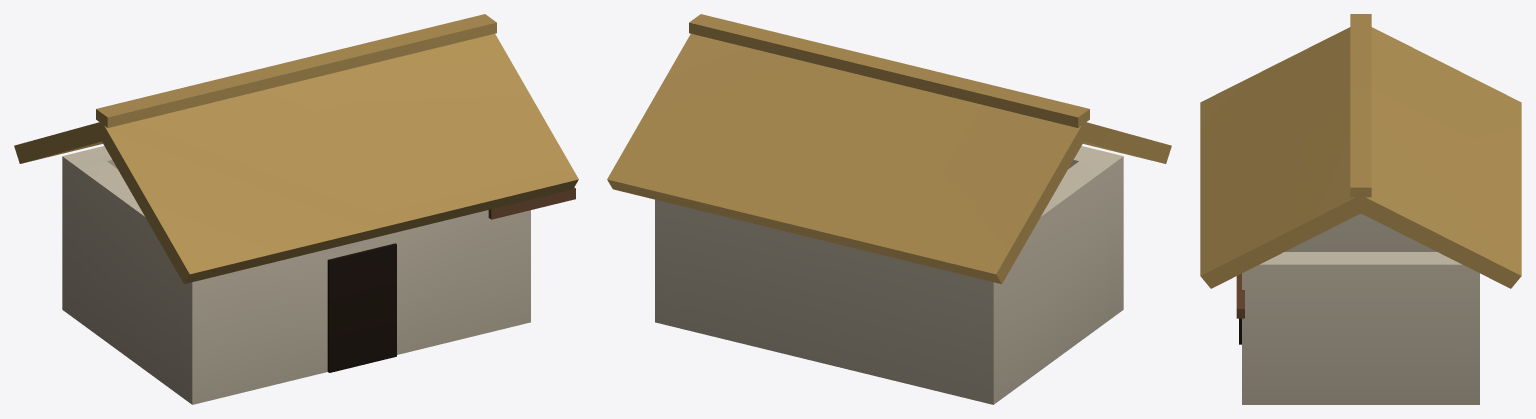
The model's file is wari_room_lod1.glb.
3 renders of one model, left to right at view 1: azimuth 30°, elevation 25°; view 2: azimuth 150°, elevation 25°; view 3: azimuth 270°, elevation 25°, orthographic. The views are drawn at different scales.
Visible parts, largest first — view 1: GEO-Arch_wari_room_LOD1; view 2: GEO-Arch_wari_room_LOD1; view 3: GEO-Arch_wari_room_LOD1.
Boxes of the visible parts, x1,y1,x2,y2 form: GEO-Arch_wari_room_LOD1: (14, 14, 578, 404); GEO-Arch_wari_room_LOD1: (607, 14, 1171, 404); GEO-Arch_wari_room_LOD1: (1200, 14, 1521, 404).
Size of the model in its own units: 7.2 by 4.24 by 5.4.
